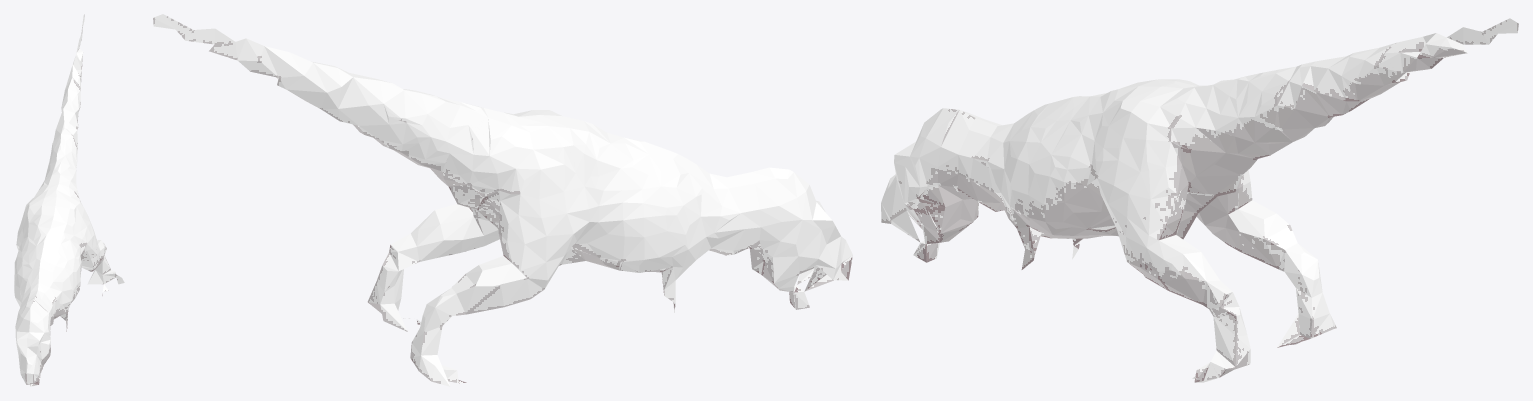
Rendered from gyaosaur.glb.
3 views of the same model, side by side, from view 1: azimuth 30°, elevation 25°; view 2: azimuth 150°, elevation 25°; view 3: azimuth 270°, elevation 25° (orthographic). The views are drawn at different scales.
Parts seen in each view (by area): view 1: model_m; view 2: model_m; view 3: model_m.
Boxes of the visible parts, x1,y1,x2,y2 form: model_m: (14,14,124,386); model_m: (153,14,852,386); model_m: (881,18,1518,382).
Size of the model in its own units: 31.79 by 30.29 by 40.59.
Materials: 1 (1 with a texture image).
